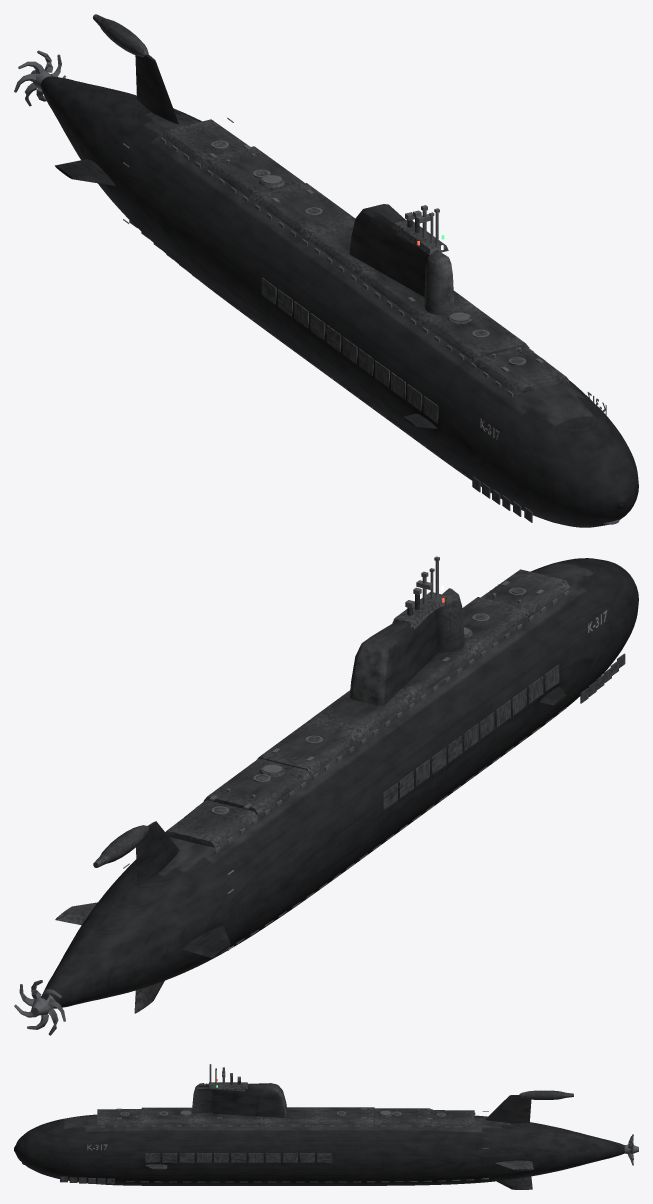
The model's file is enemy_submarine.glb.
3 renders of one model, top to bottom at view 1: azimuth 30°, elevation 25°; view 2: azimuth 150°, elevation 25°; view 3: azimuth 270°, elevation 25°, orthographic. The views are drawn at different scales.
Visible parts, largest first — view 1: sub_hull, sub_sail, sub_detail; view 2: sub_hull, sub_sail, sub_detail; view 3: sub_hull, sub_sail, sub_detail.
Part boxes in pixels (box(x1,y1,x2,y2)): sub_hull: box(40, 76, 638, 527); sub_sail: box(14, 14, 569, 428); sub_detail: box(123, 117, 619, 524); sub_hull: box(44, 558, 638, 1008); sub_sail: box(14, 561, 569, 1035); sub_detail: box(123, 556, 625, 952); sub_hull: box(14, 1114, 624, 1185); sub_sail: box(97, 1066, 638, 1189); sub_detail: box(22, 1064, 488, 1184).
Size of the model in its own units: 17.45 by 24.85 by 113.
7 materials, 7 textured.
